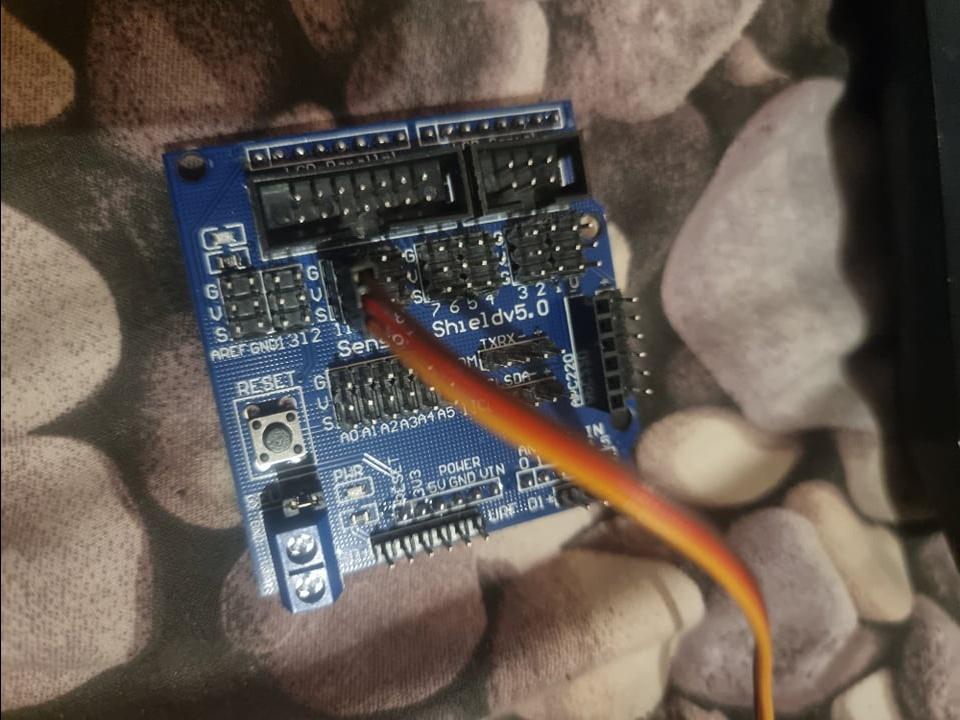5V EXPANSION: (167, 96, 656, 617)
